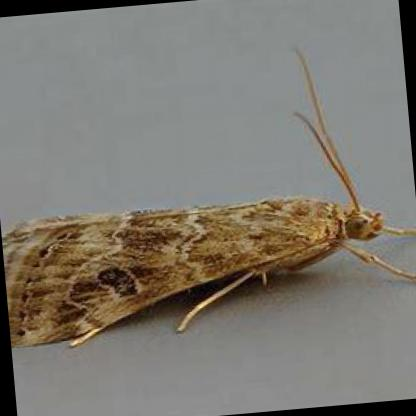Hellula undalis: (3, 44, 416, 361)
